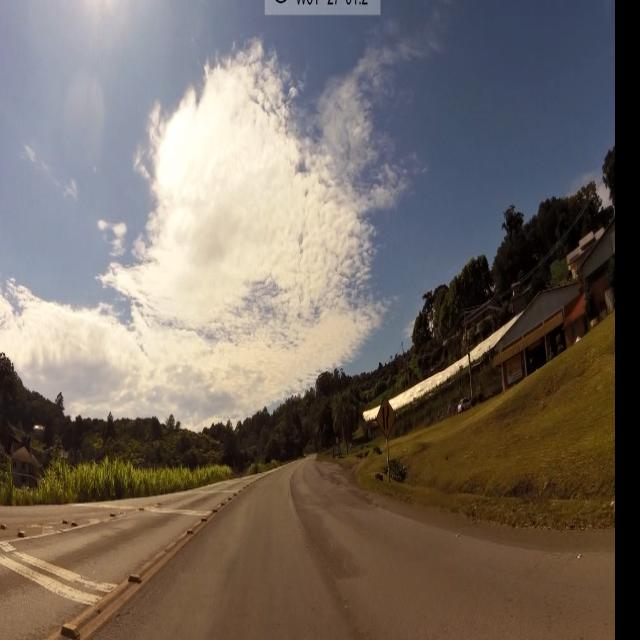A-21e: (376, 398, 396, 439)
